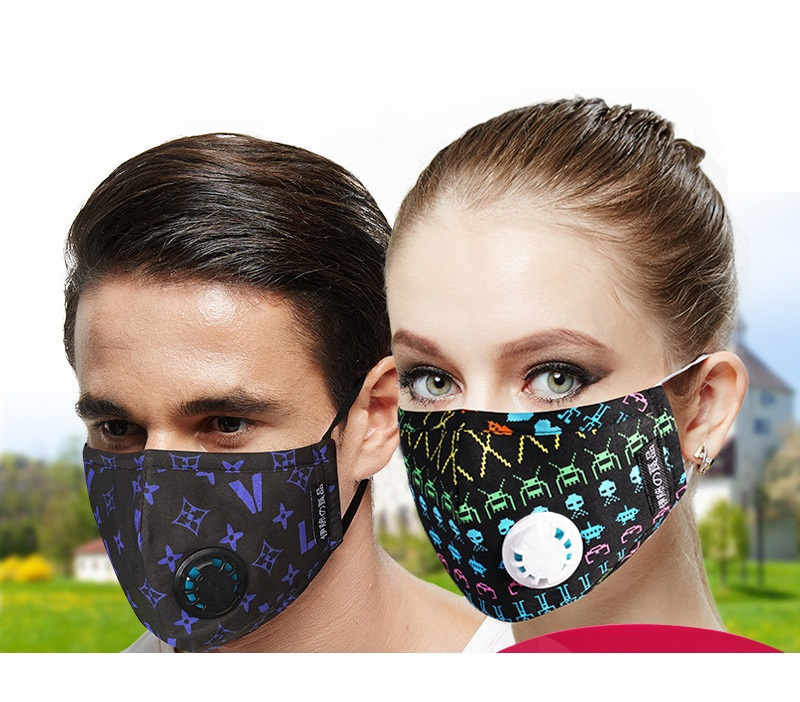face_mask: (385, 233, 648, 623), (69, 283, 327, 655)
